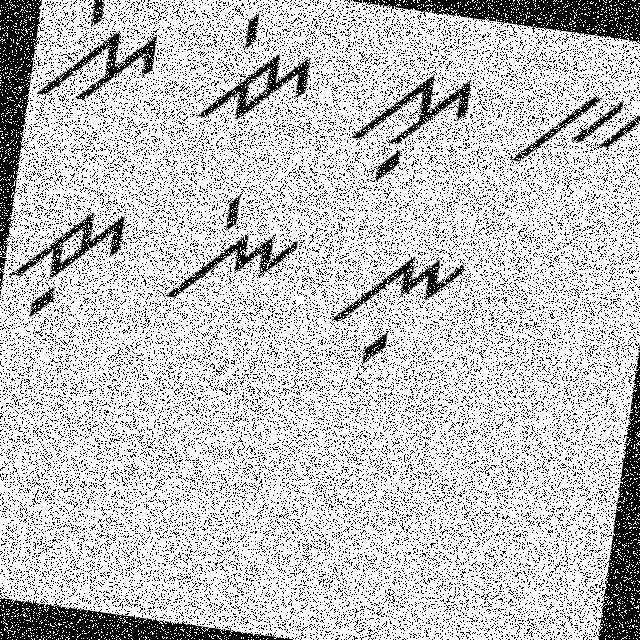je: (192, 0, 324, 138)
ju: (0, 178, 134, 332)
nye: (160, 172, 312, 324)
nyu: (320, 222, 481, 380)
se: (31, 0, 174, 125)
su: (342, 52, 484, 198)
